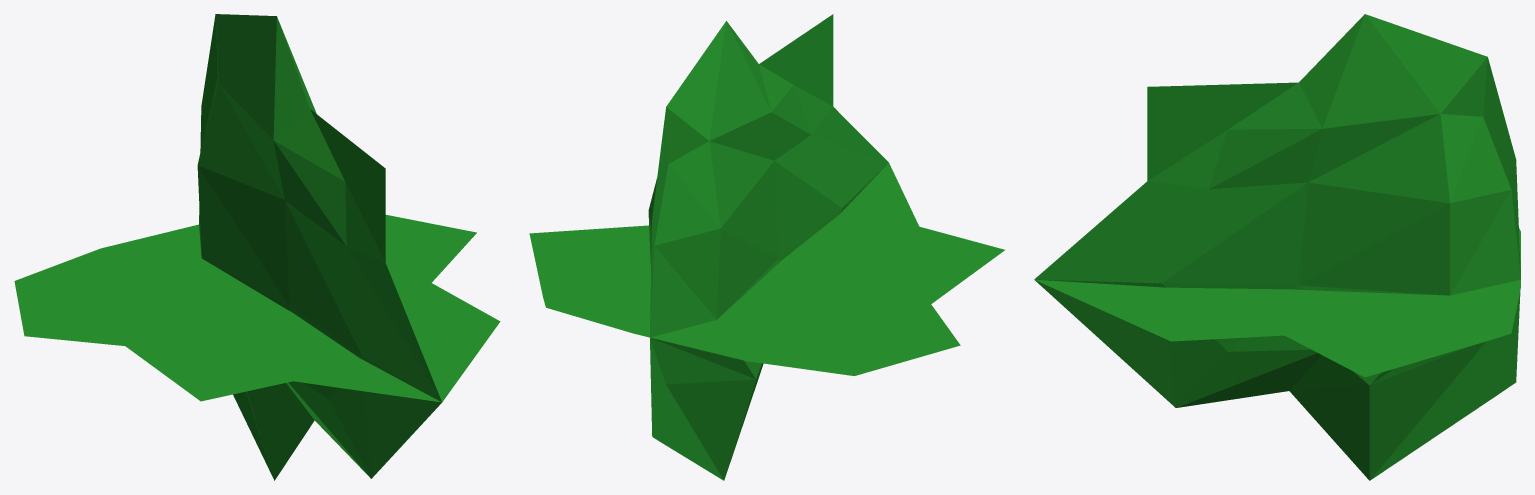
The model's file is 4_mature.obj.
The picture shows the model from 3 angles, left to right: view 1: azimuth 30°, elevation 25°; view 2: azimuth 150°, elevation 25°; view 3: azimuth 270°, elevation 25°; orthographic projection.
Visible parts, largest first — view 1: herb; view 2: herb; view 3: herb.
Boxes of the visible parts, x1,y1,x2,y2 form: herb: (14,14,500,480); herb: (529,14,1004,480); herb: (1034,14,1520,480).
Bounding box in the file's own units: 1.09 × 1.09 × 1.03.
